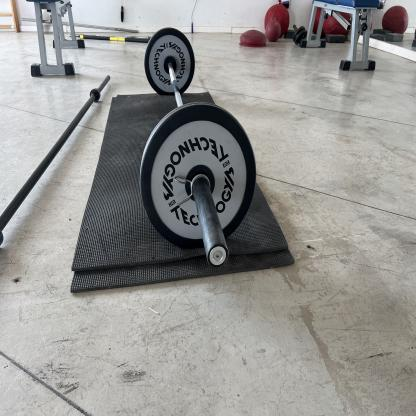barbell: (141, 104, 258, 251), (145, 27, 197, 98)
